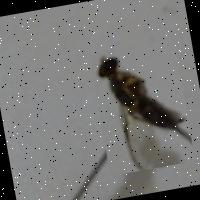Oriental-fruit-fly: (89, 38, 195, 176)
